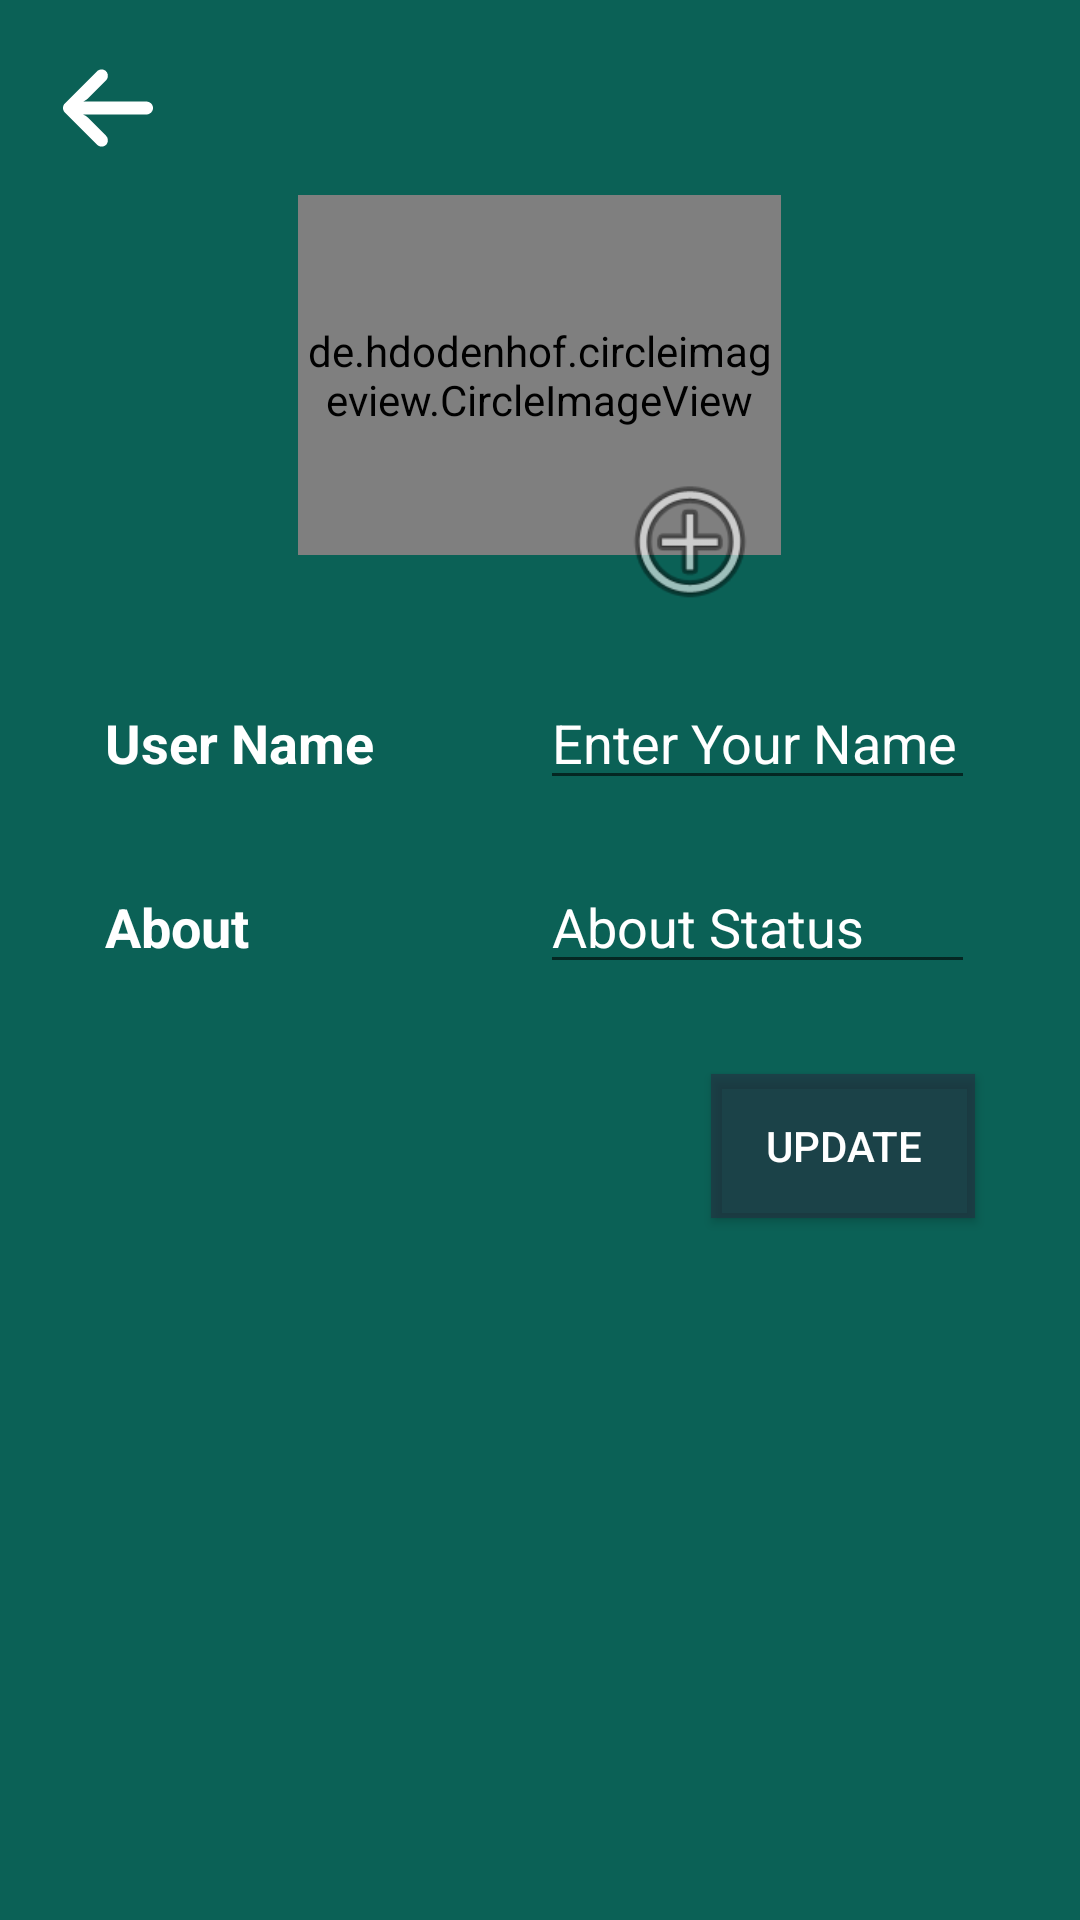

Where to tap for icons on this 1080*1920 app screen, as (x=x, y=y):
add: (x=690, y=541)
arrow: (x=108, y=108)
